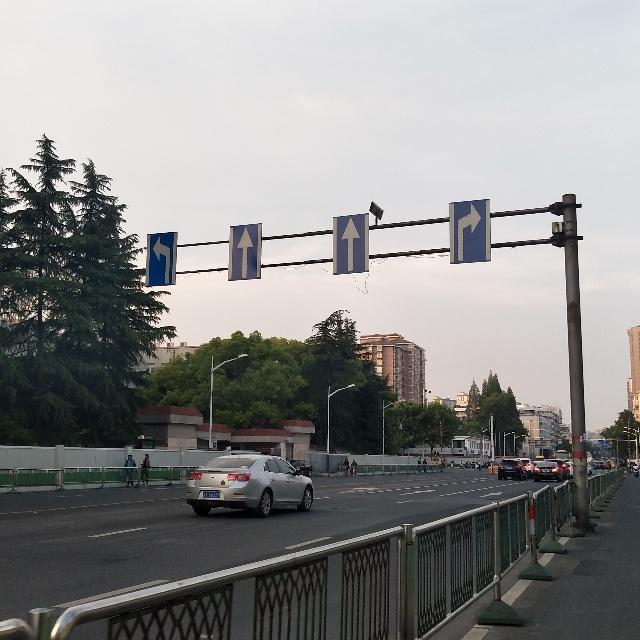left: (147, 236, 173, 284)
right: (452, 200, 488, 262)
straight: (227, 220, 260, 279), (336, 216, 369, 275)
